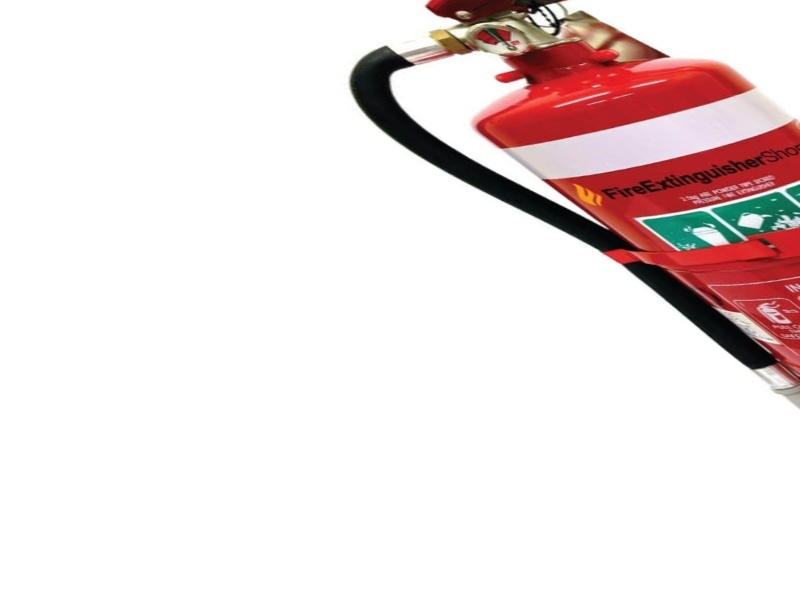fire_extinguisher: (344, 3, 800, 419)
